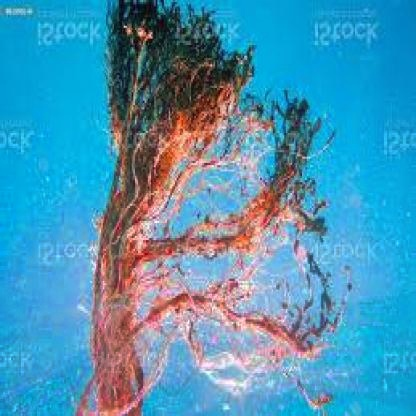net: (91, 10, 337, 416)
